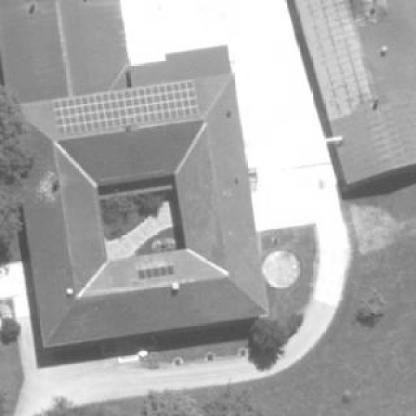solar-pv-panel: (53, 79, 200, 136), (137, 265, 173, 281)
